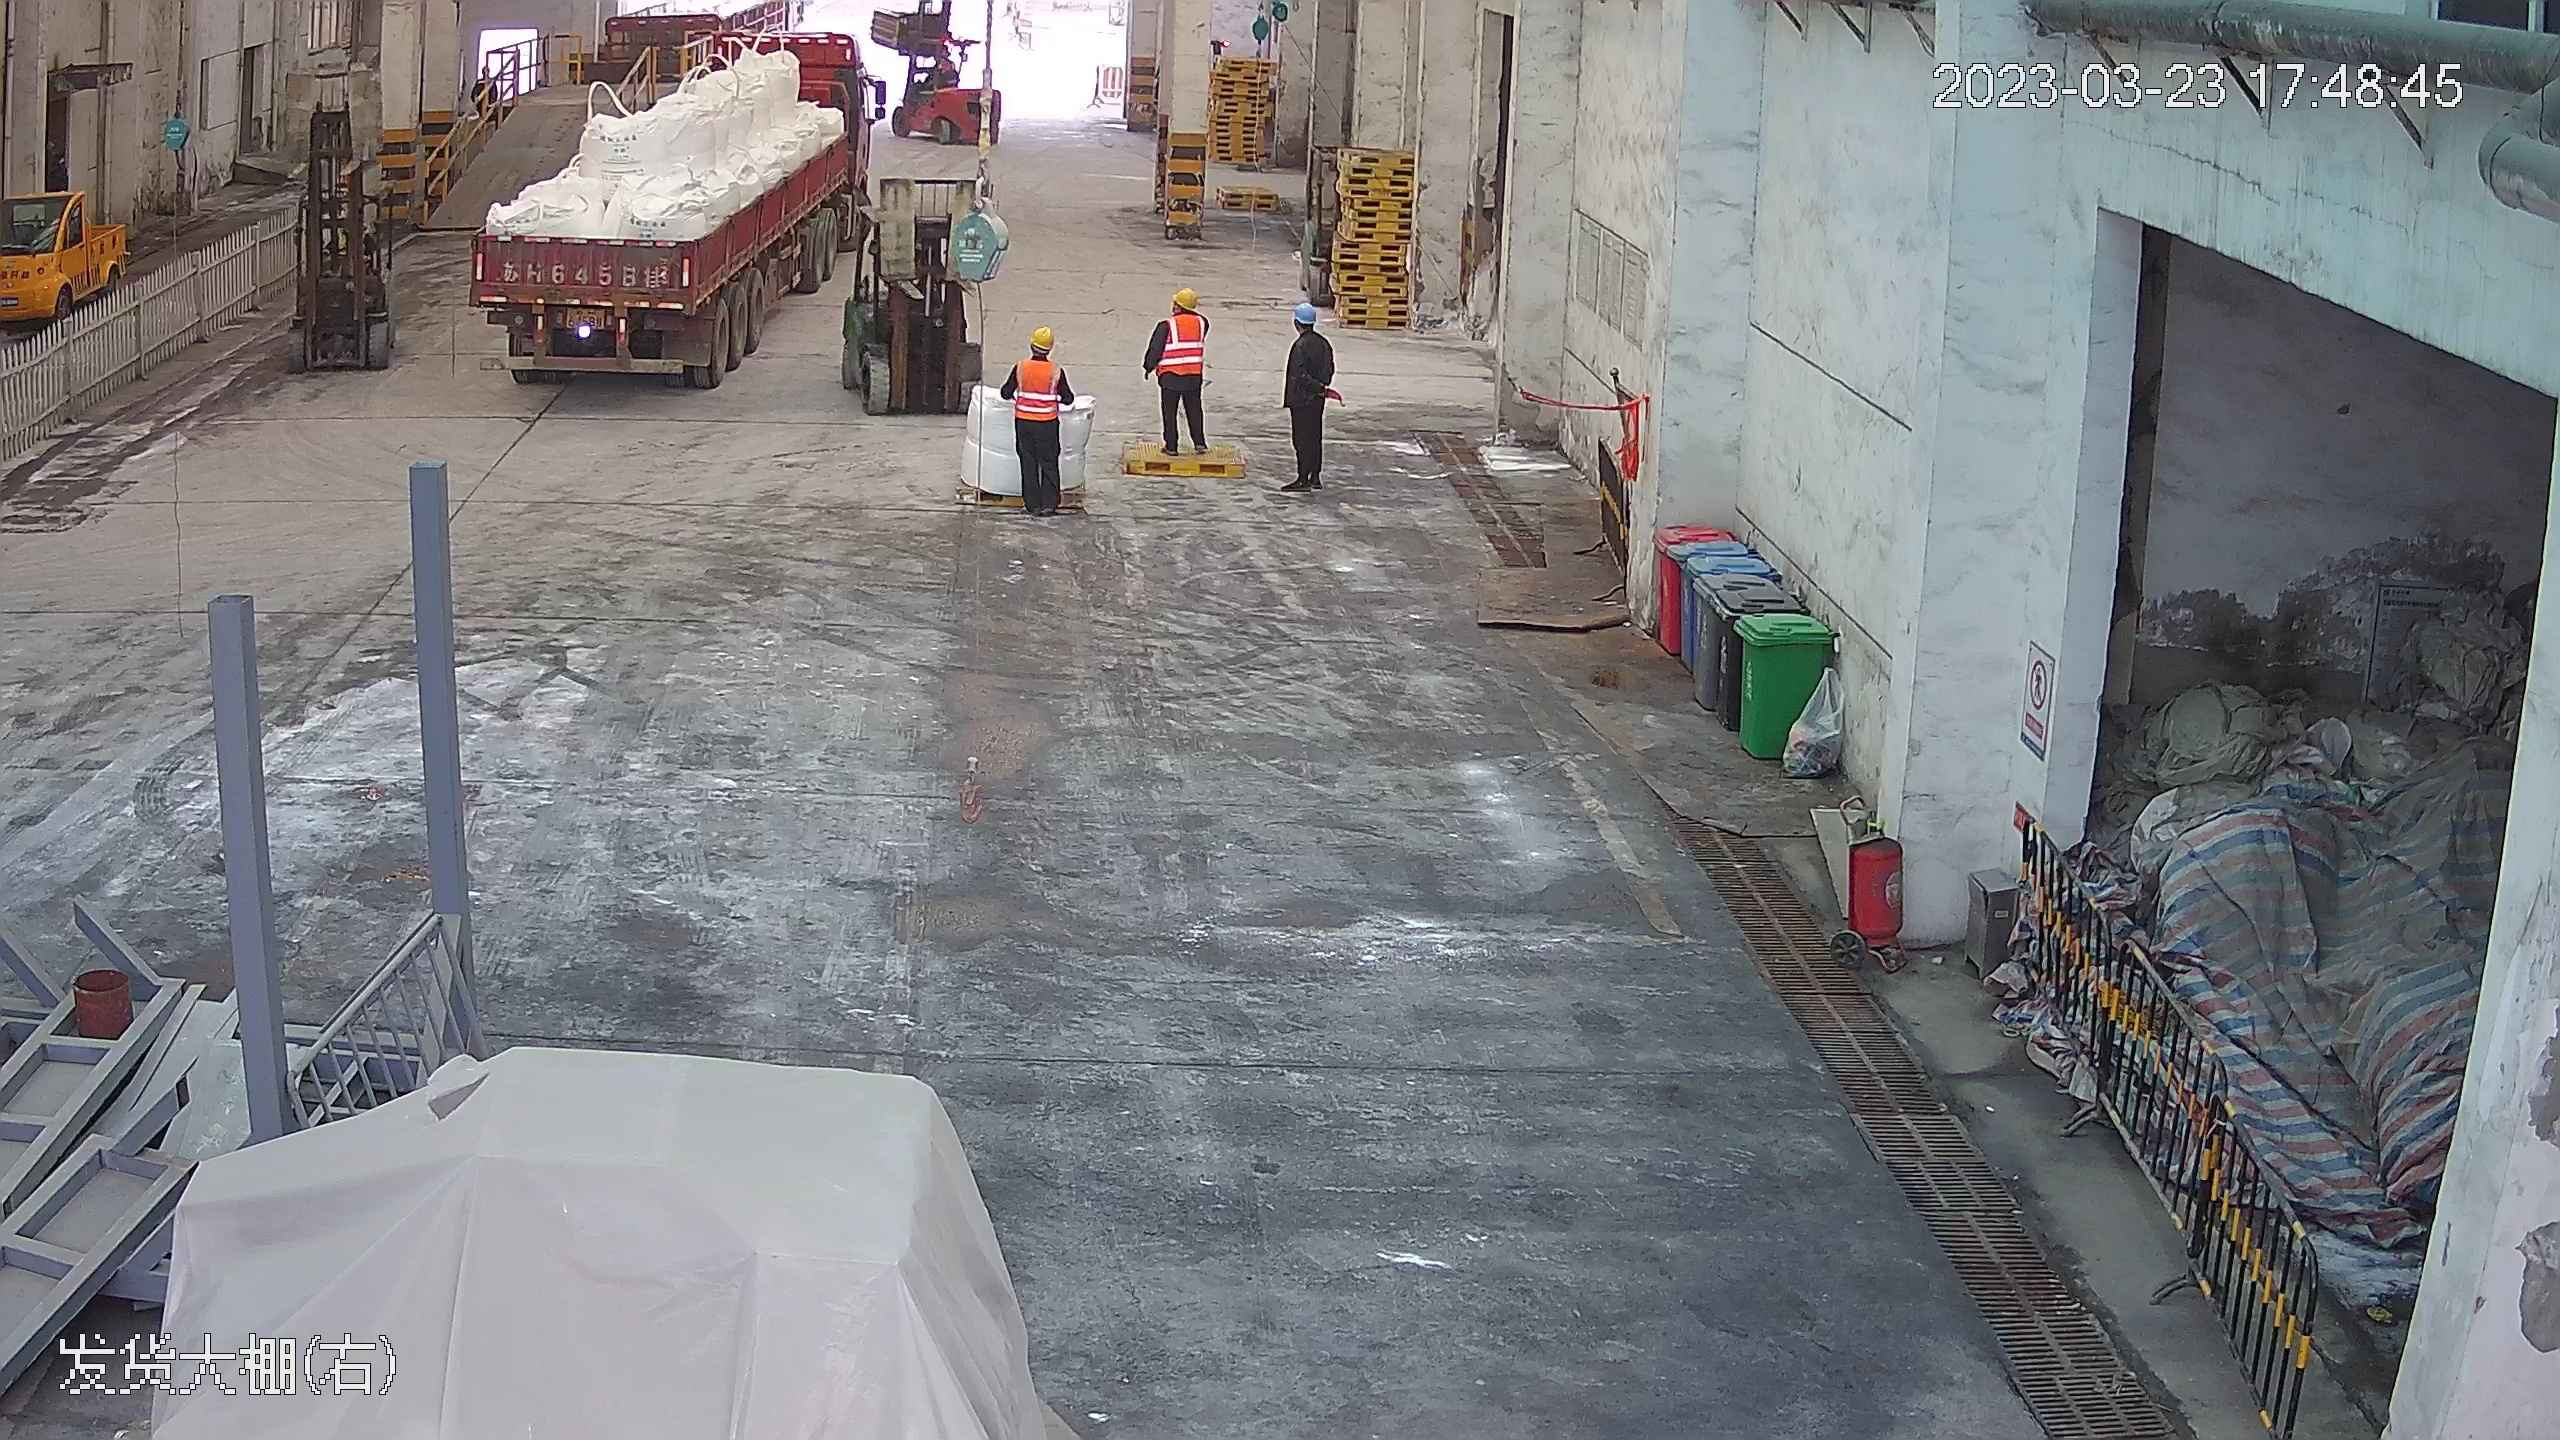head: (1007, 322, 1069, 389), (1152, 285, 1207, 342), (1284, 303, 1332, 366)
helmet: (1170, 285, 1200, 310), (1026, 323, 1056, 346), (1293, 302, 1316, 324)
people: (999, 318, 1080, 515), (1145, 282, 1211, 456), (1280, 299, 1337, 490)
truck: (457, 4, 876, 390)
